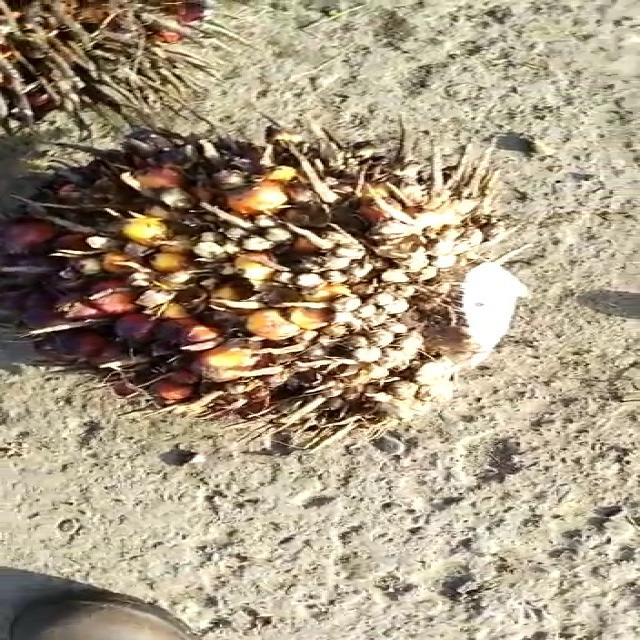palm oil: (0, 120, 540, 428)
